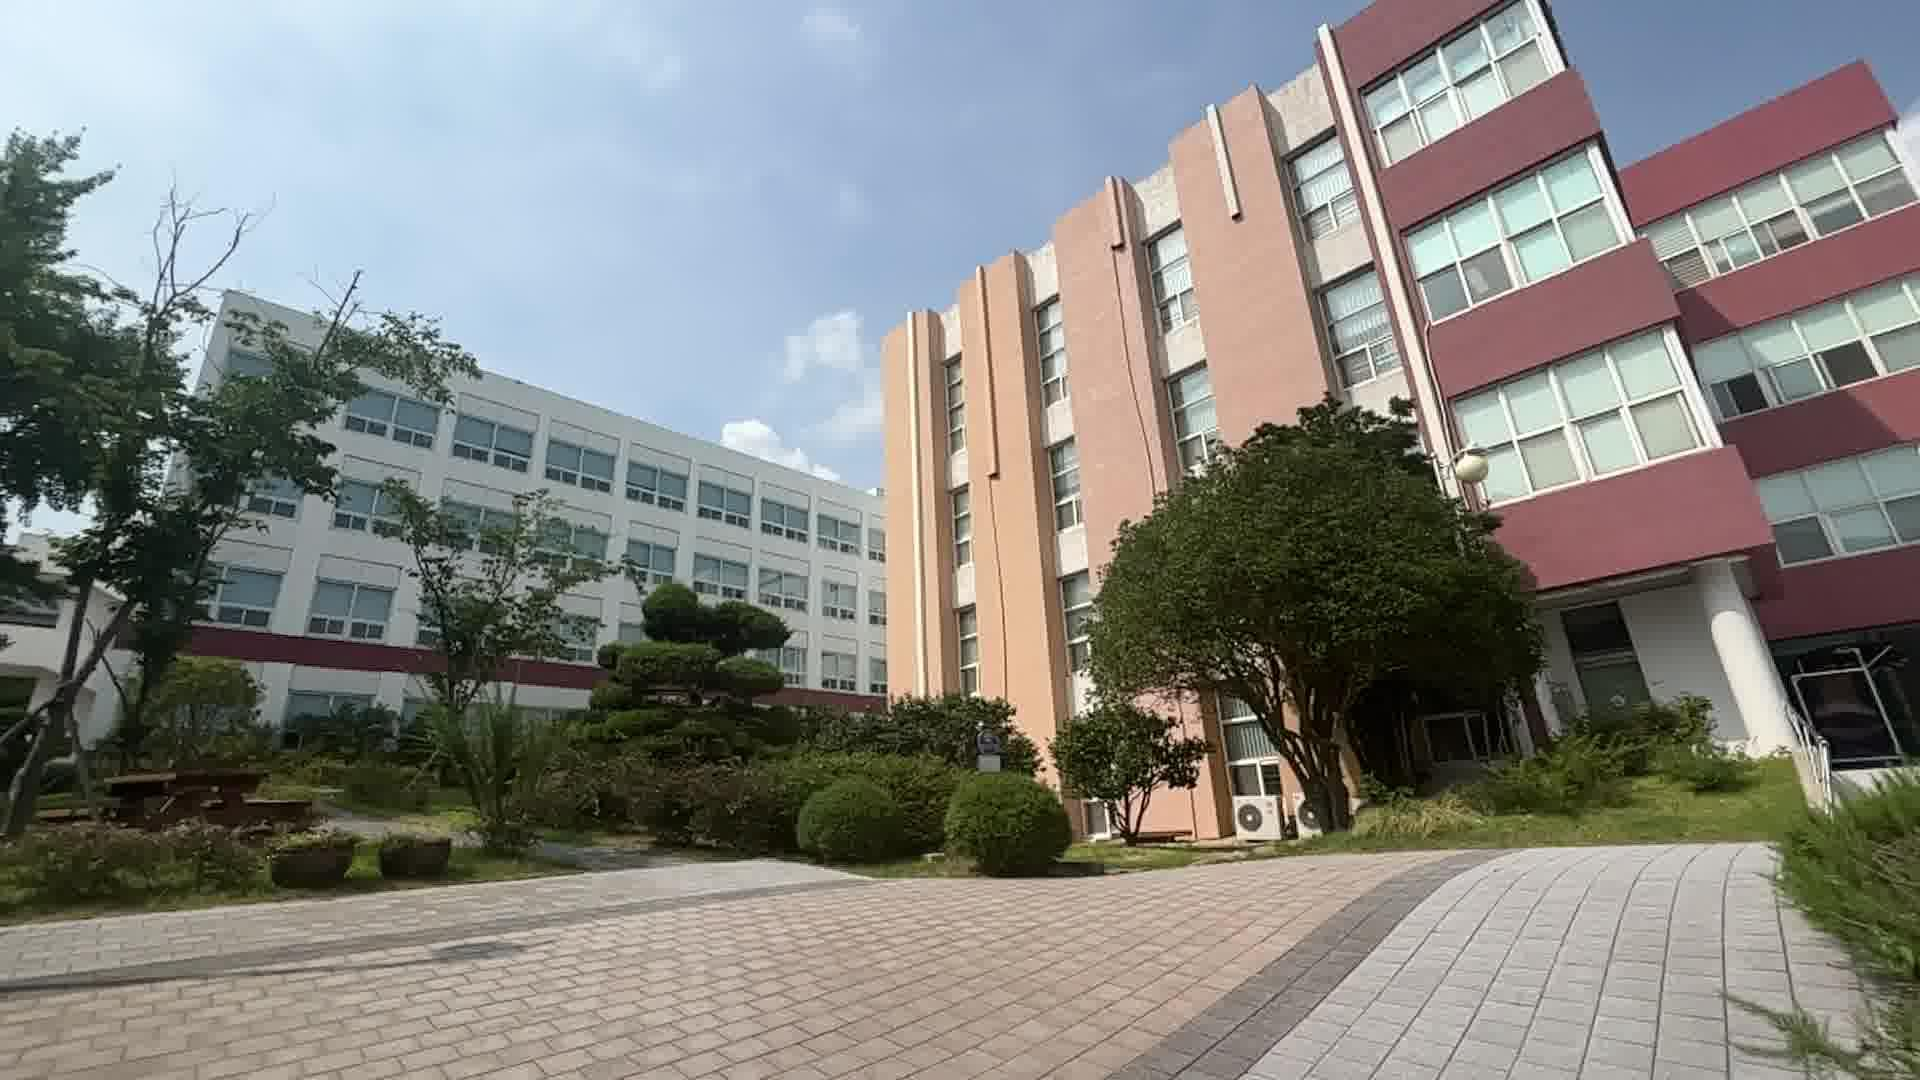building: (268, 0, 1920, 525)
